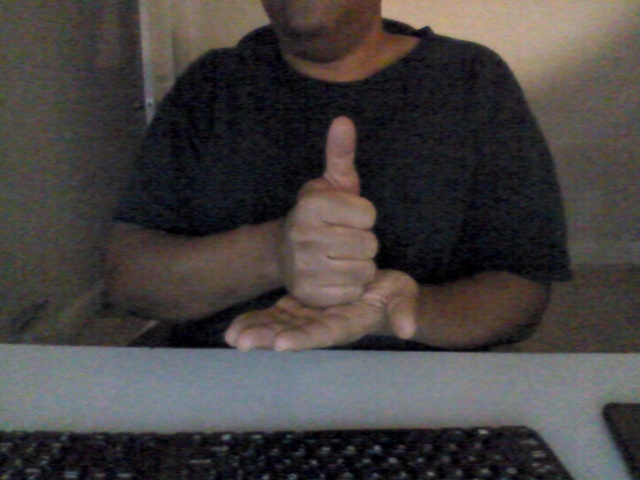help: (222, 111, 424, 363)
